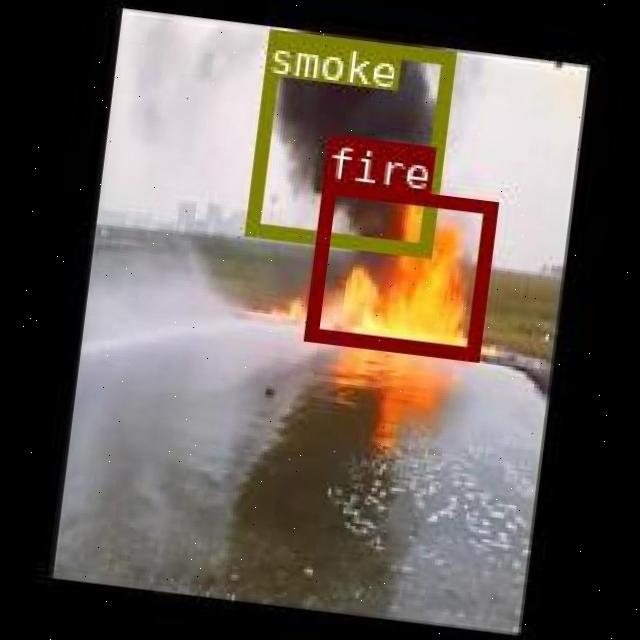fire: (302, 177, 494, 357)
smoke: (244, 28, 452, 254)
